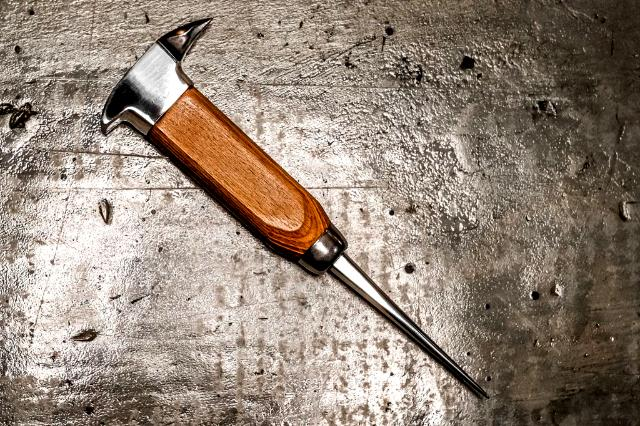ice pick: (101, 16, 489, 398)
